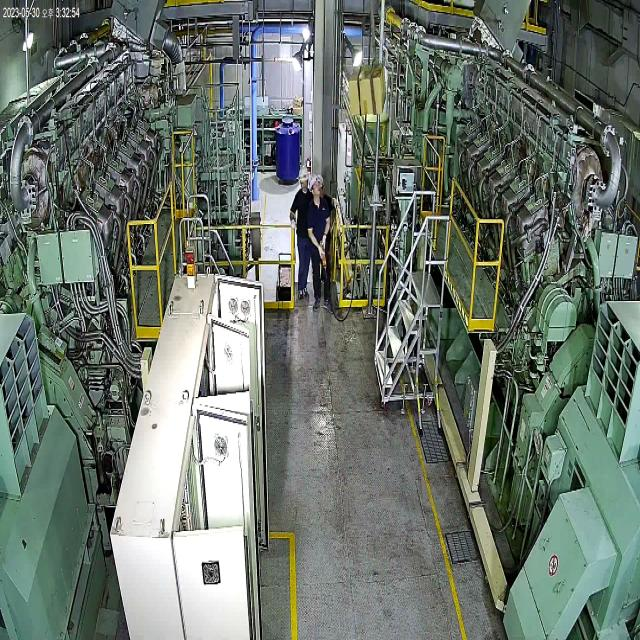Water Tank: (273, 112, 303, 188)
worker: (305, 177, 333, 322), (288, 165, 316, 303), (312, 167, 337, 297)
